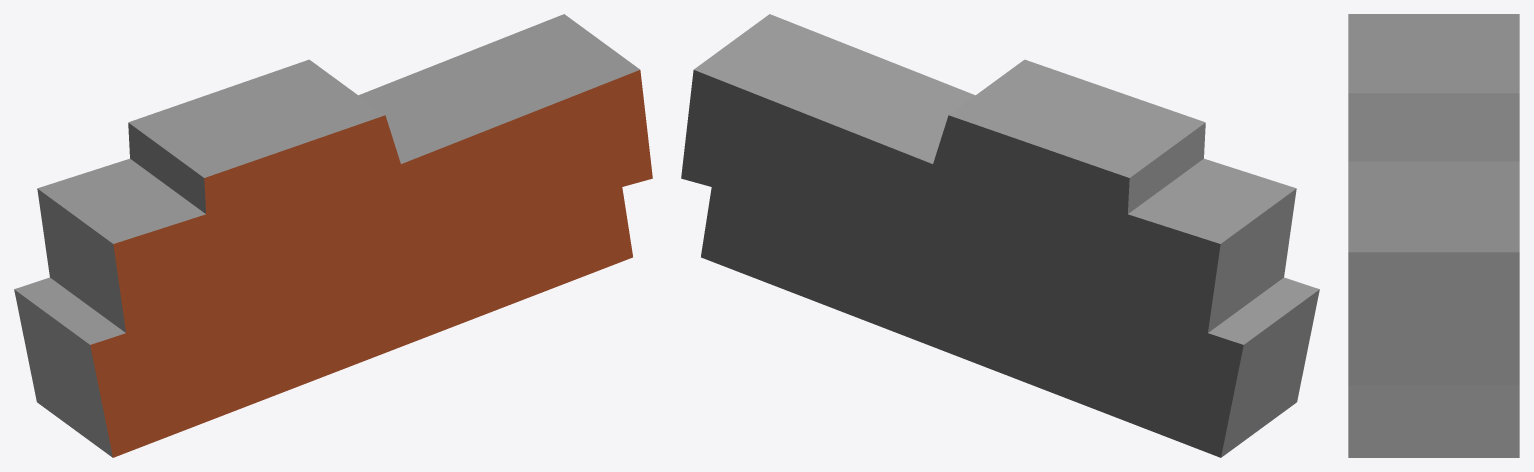
Rendered from construction_3028_assumed_A_Casa_h6m.obj.
3 views of the same model, side by side, from view 1: azimuth 30°, elevation 25°; view 2: azimuth 150°, elevation 25°; view 3: azimuth 270°, elevation 25° (orthographic). The views are drawn at different scales.
Visible parts, largest first — view 1: construction_3028_assumed_A_Casa; view 2: construction_3028_assumed_A_Casa; view 3: construction_3028_assumed_A_Casa.
Part boxes in pixels (x1,y1,x2,y2): construction_3028_assumed_A_Casa: (14, 14, 652, 457); construction_3028_assumed_A_Casa: (681, 14, 1319, 457); construction_3028_assumed_A_Casa: (1348, 14, 1519, 457).
Bounding box in the file's own units: 25.6 × 12.01 × 6.
